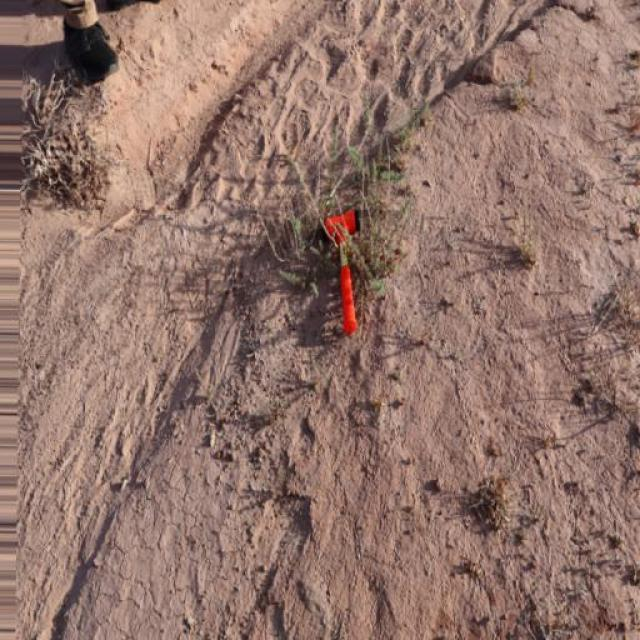mallet: (321, 207, 360, 335)
